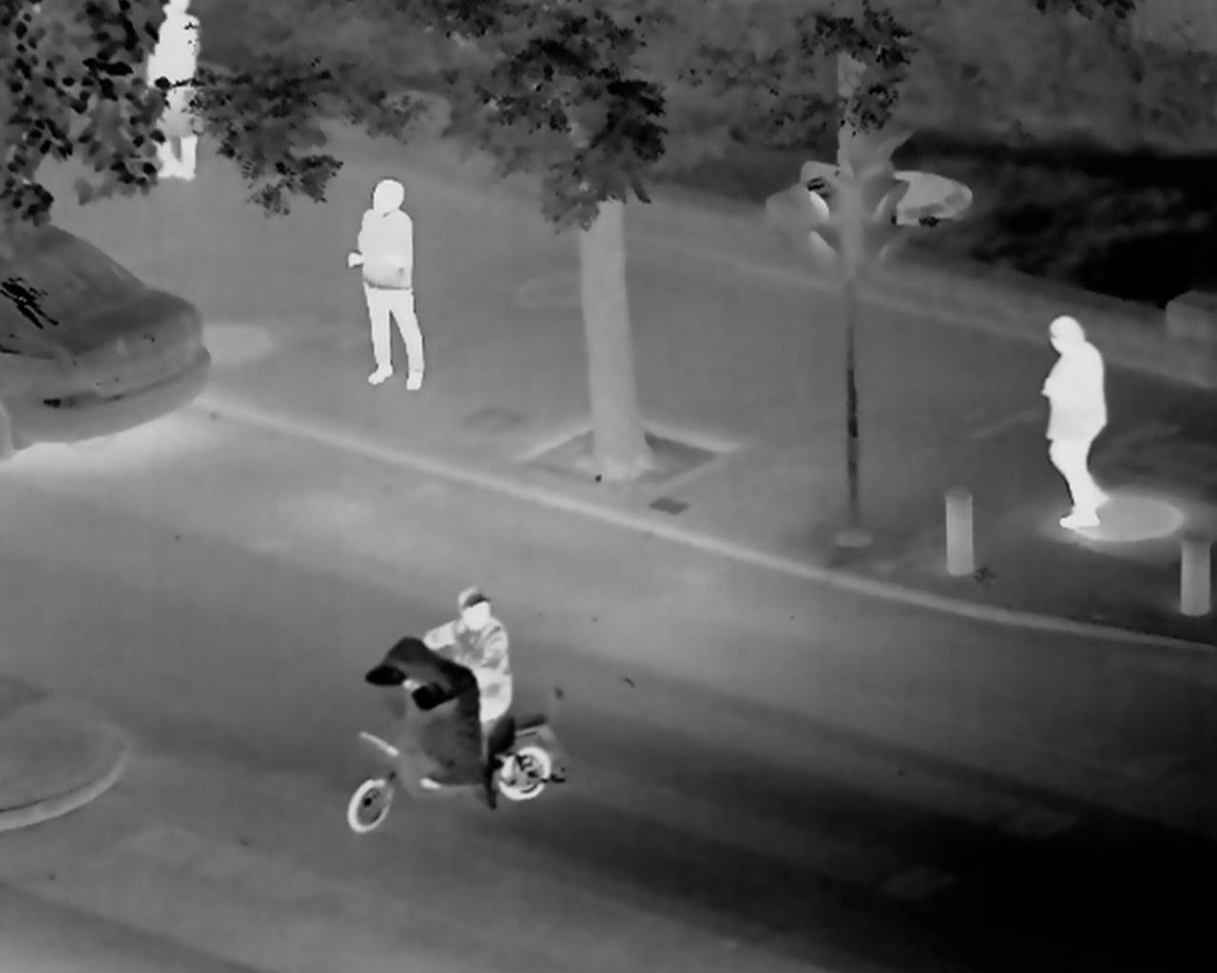person: (415, 569, 529, 776), (1033, 305, 1126, 539), (342, 176, 429, 407)
